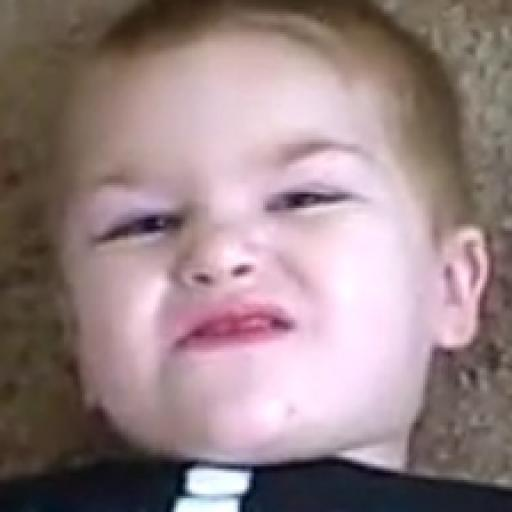Autism: (53, 11, 498, 512)
